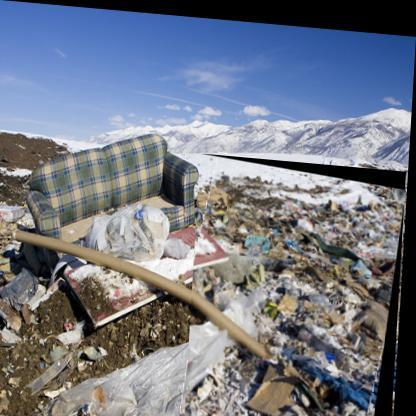Garbage: (189, 150, 410, 416)
